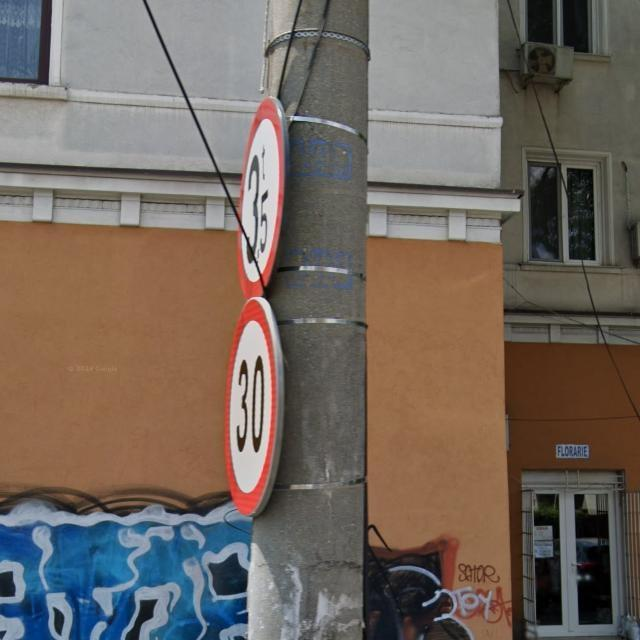forb_speed_over_30: (224, 295, 281, 516)
